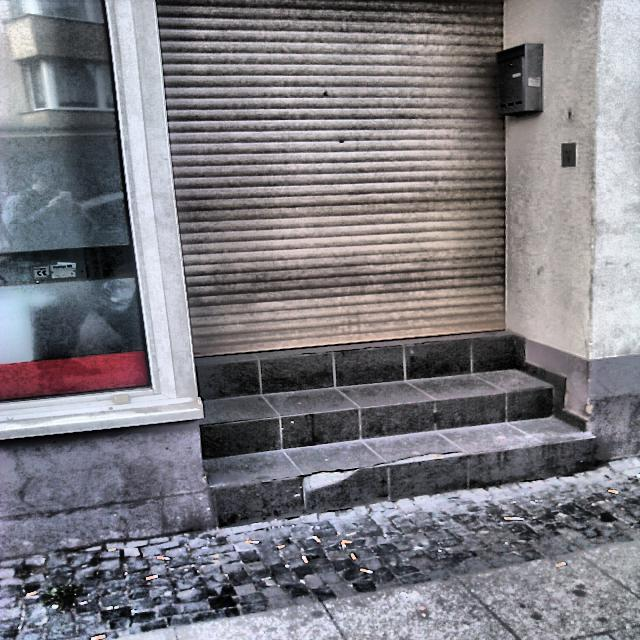escada: (191, 333, 599, 532)
